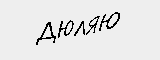Д: (36, 20, 58, 44)
Л: (73, 19, 88, 39)
Ю: (98, 10, 122, 33), (56, 17, 74, 39)
Я: (86, 12, 99, 36)
